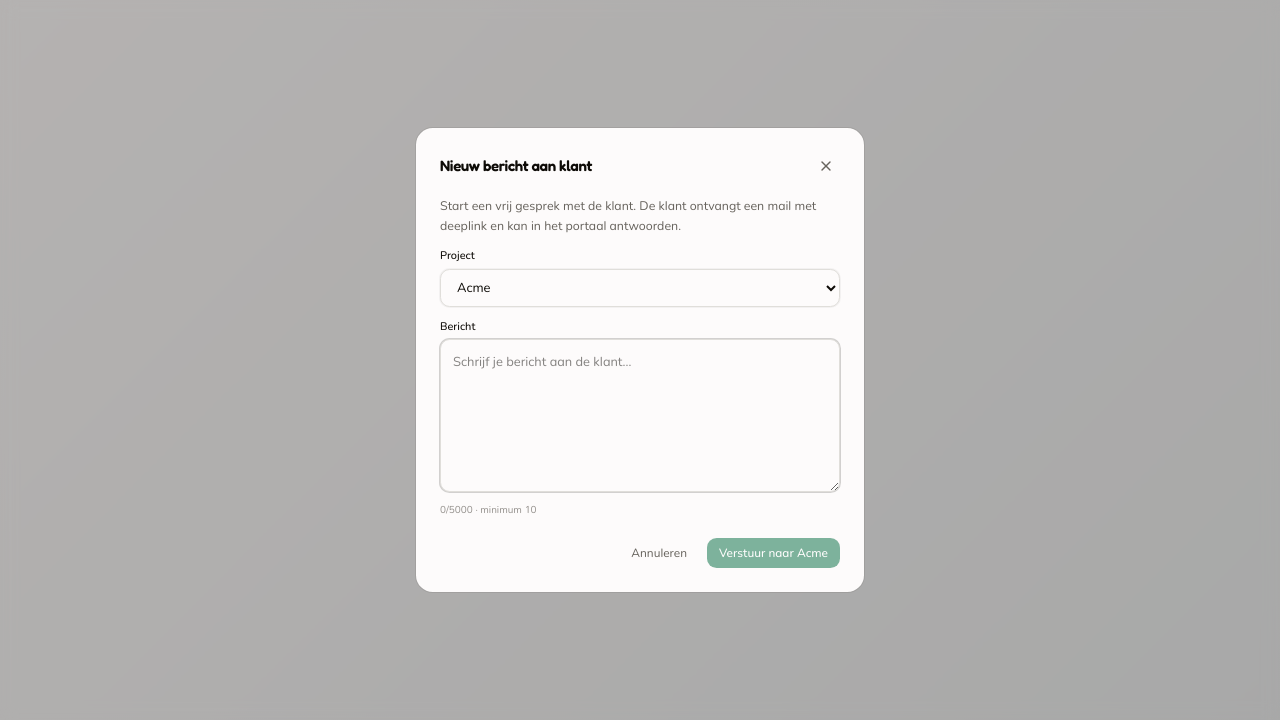
Test case: ComposeModal — CC-008 UX polish › project wijzigen update de submit-knop-tekst
Select "Globex" in the dropdown at coordinates (640, 288), box left=440, top=269, right=840, bottom=307
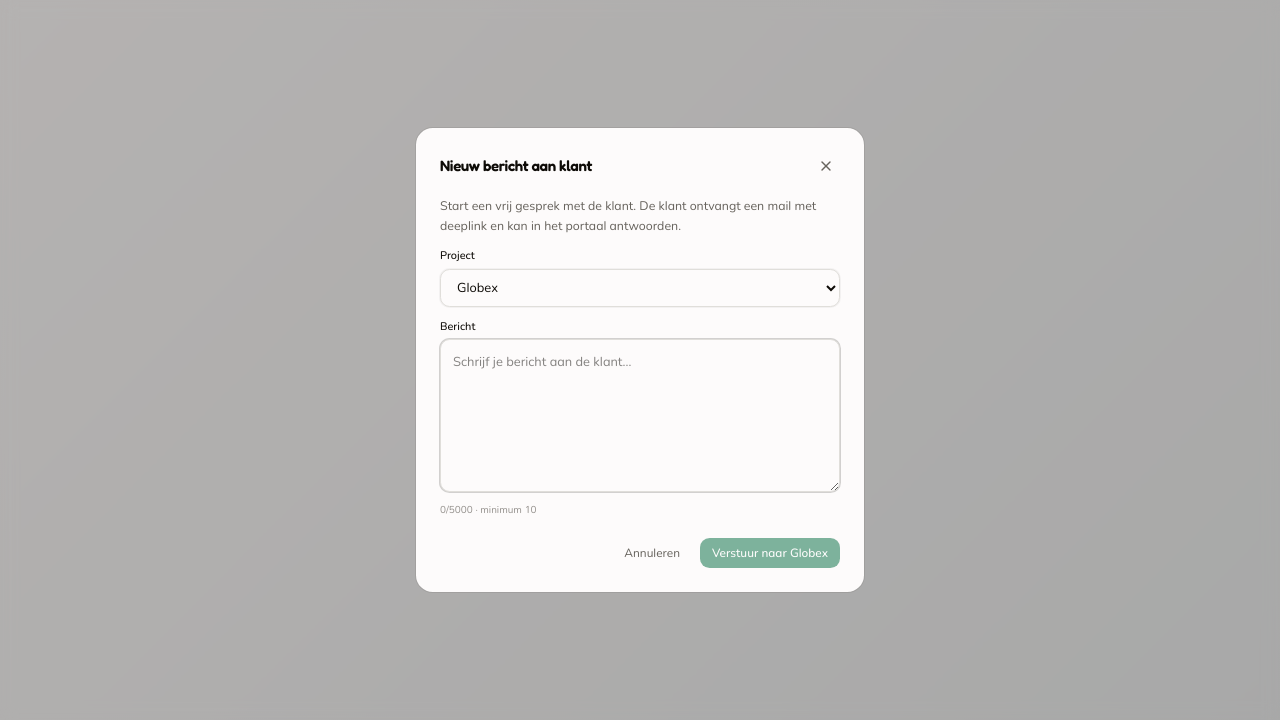
Now the button "Verstuur naar Globex" is shown, box left=700, top=538, right=840, bottom=568
